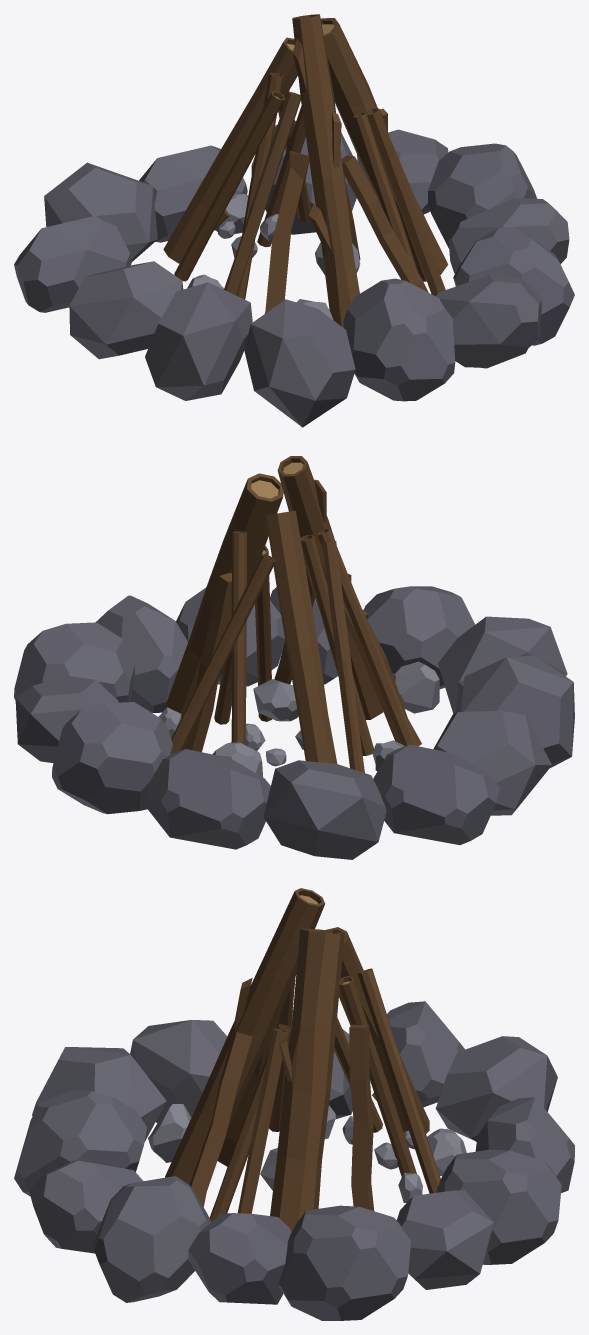
The model's file is Campfire.fbx.
3 views of the same model, one above another, from view 1: azimuth 30°, elevation 25°; view 2: azimuth 150°, elevation 25°; view 3: azimuth 270°, elevation 25° (orthographic). The views are drawn at different scales.
Visible parts, largest first — view 1: log_8a.008; view 2: log_8a.008; view 3: log_8a.008.
Boxes of the visible parts, box(x1,y1,x2,y2) form: log_8a.008: box(14, 14, 574, 427); log_8a.008: box(14, 456, 574, 859); log_8a.008: box(14, 888, 574, 1320).
Size of the model in its own units: 247 by 150 by 230.
